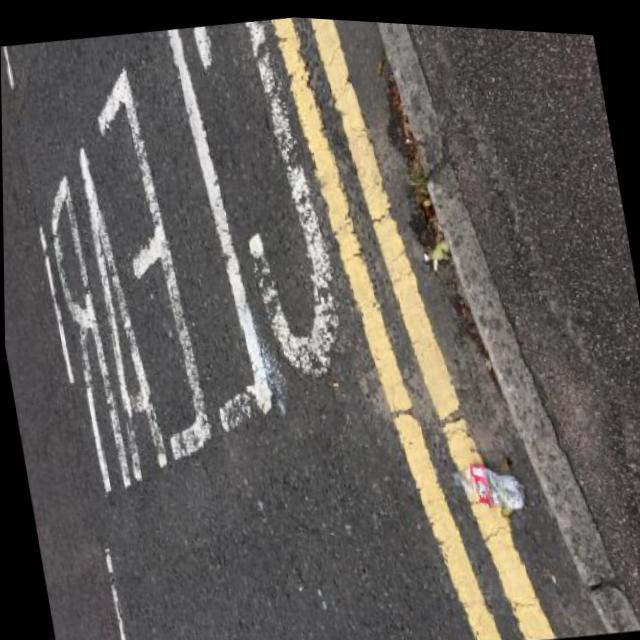plastic: (450, 455, 529, 523)
